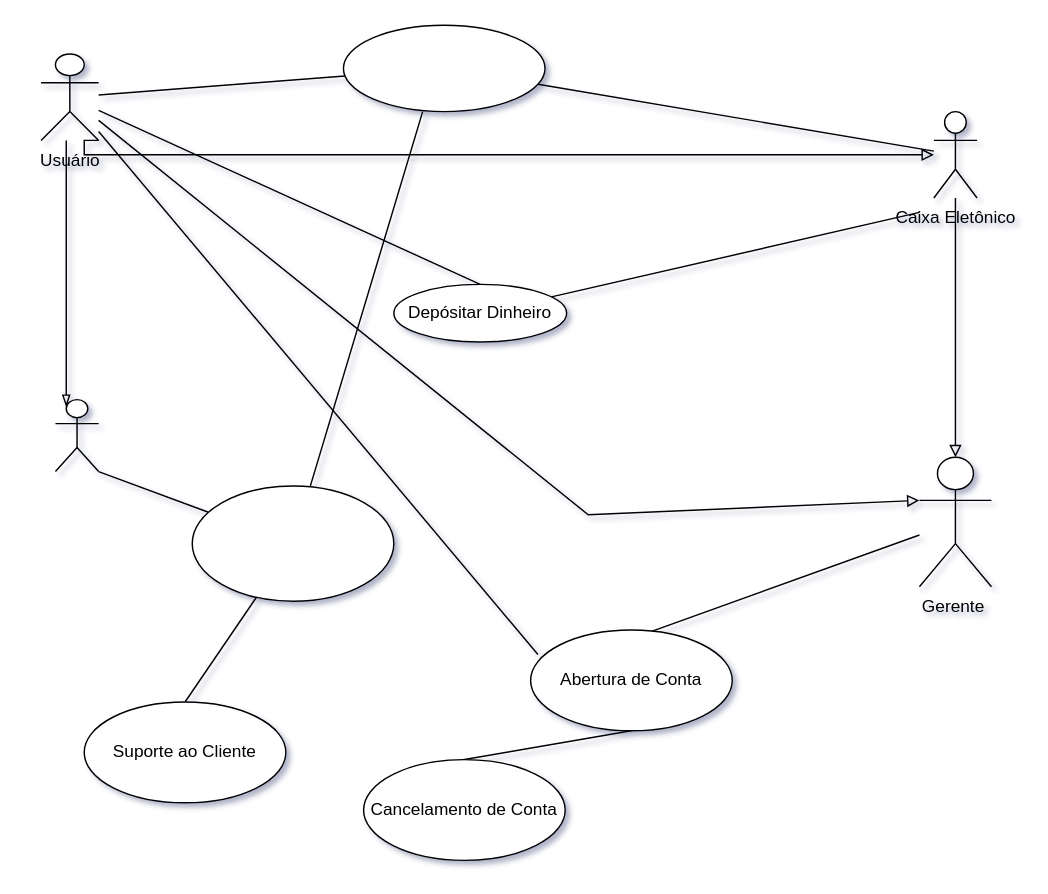
Some shapes in this 1048 by 894 pixel diagram are drawn without their labels. The centre of each missing label's shape, as x and y in pixels:
Funcionarios: the point at 76,435
Manutenção de Cadastro: the point at 292,543
Sacar Dinheiro: the point at 443,68
